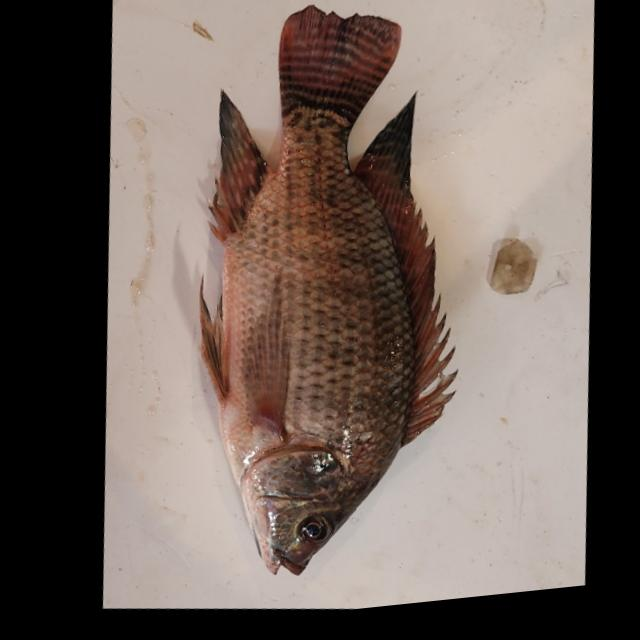Tilapia: (144, 0, 514, 604)
